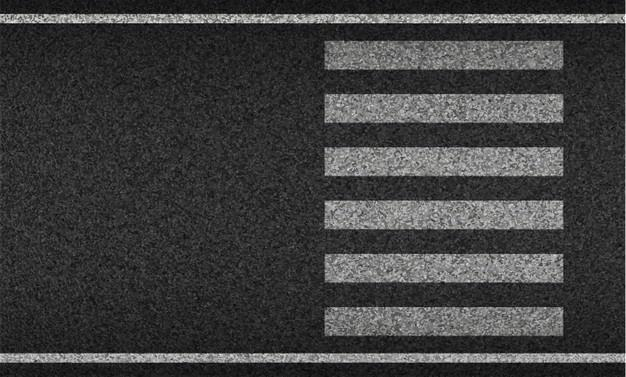crosswalk: (310, 24, 582, 353)
